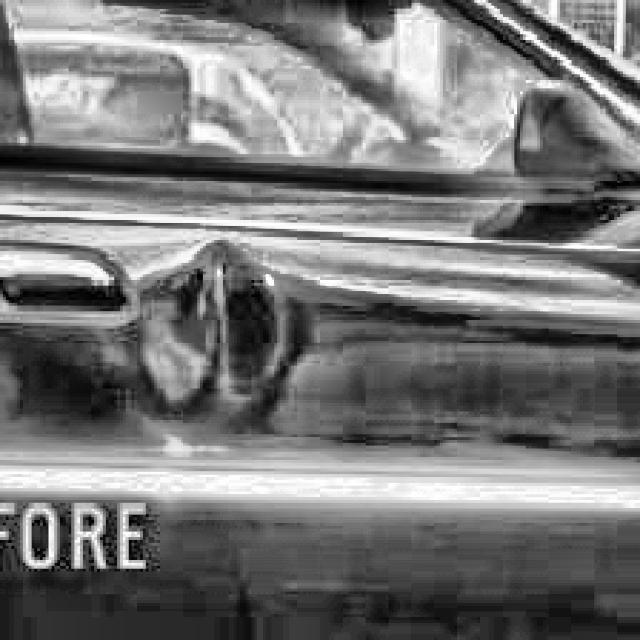door_dent: (132, 246, 301, 435)
